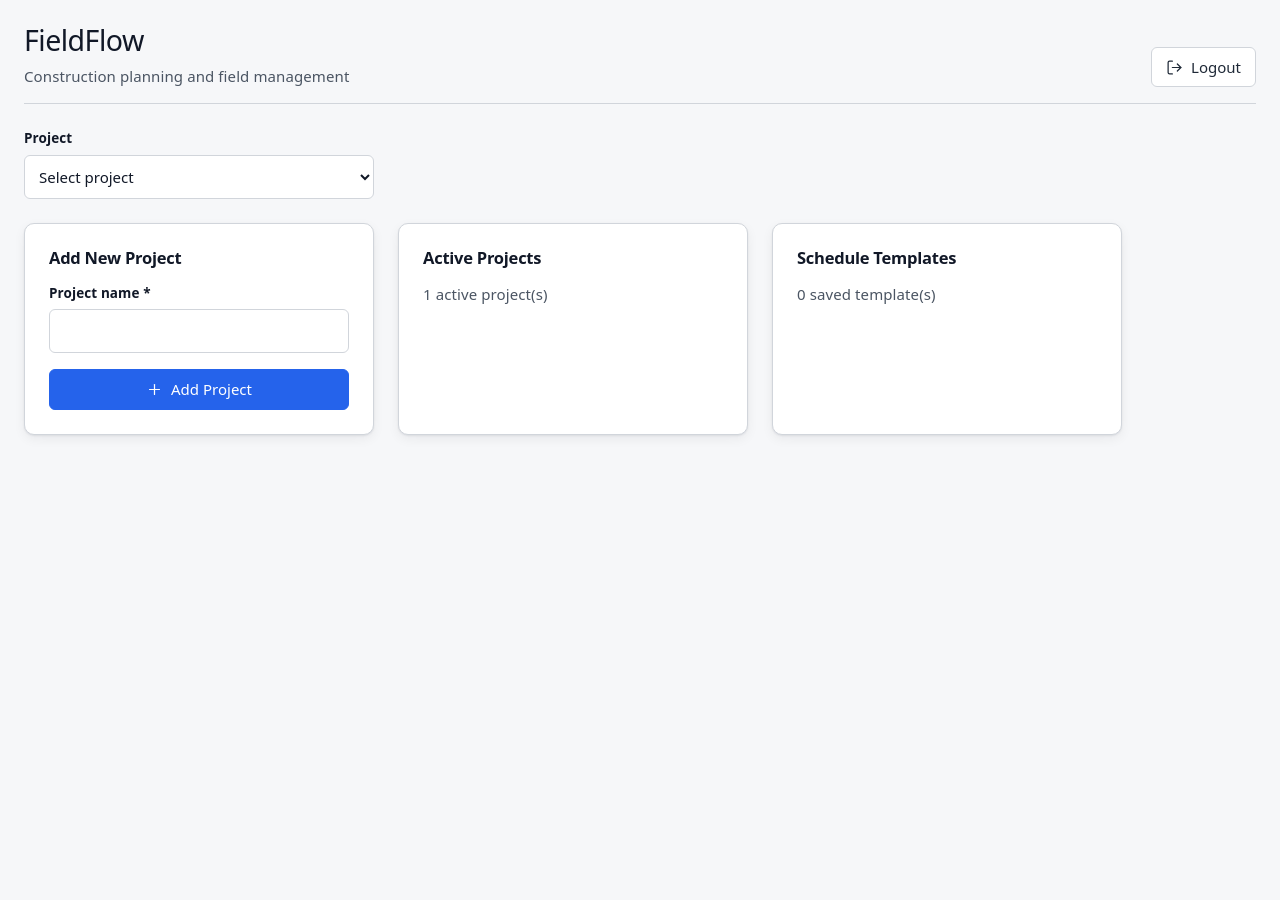
Test: App integration (hooks wiring) › navigates to the selected project's RFI route and loads RFIs
The width and height of the screenshot is (1280, 900).
Select "Riverside" in the dropdown labelled "Project" at (199, 176), box [24, 154, 374, 198]
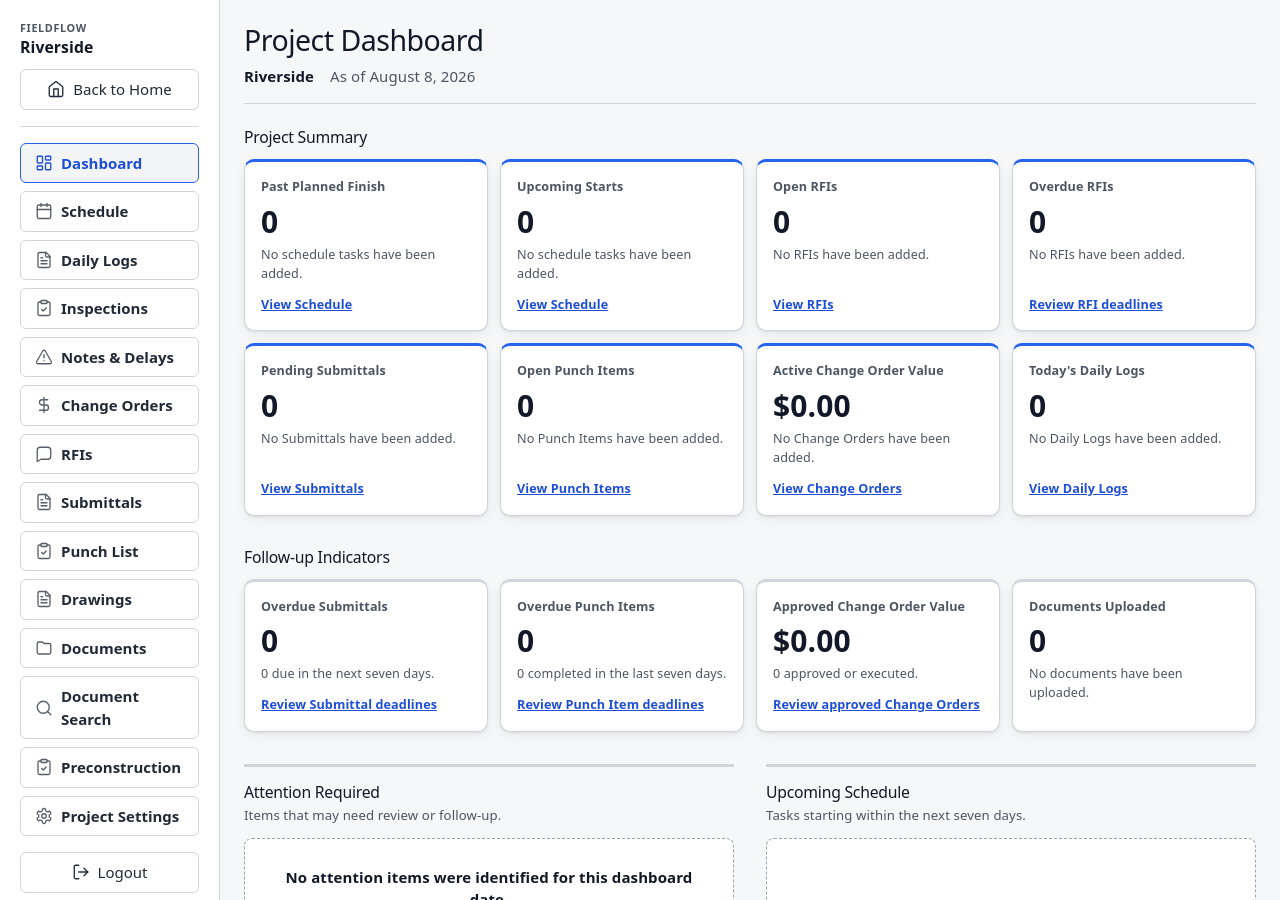
Now the heading "Project Dashboard" is shown, box [244, 24, 484, 57]
Click the button "RFIs" at (110, 454), box [20, 434, 199, 474]
(page scrolled)
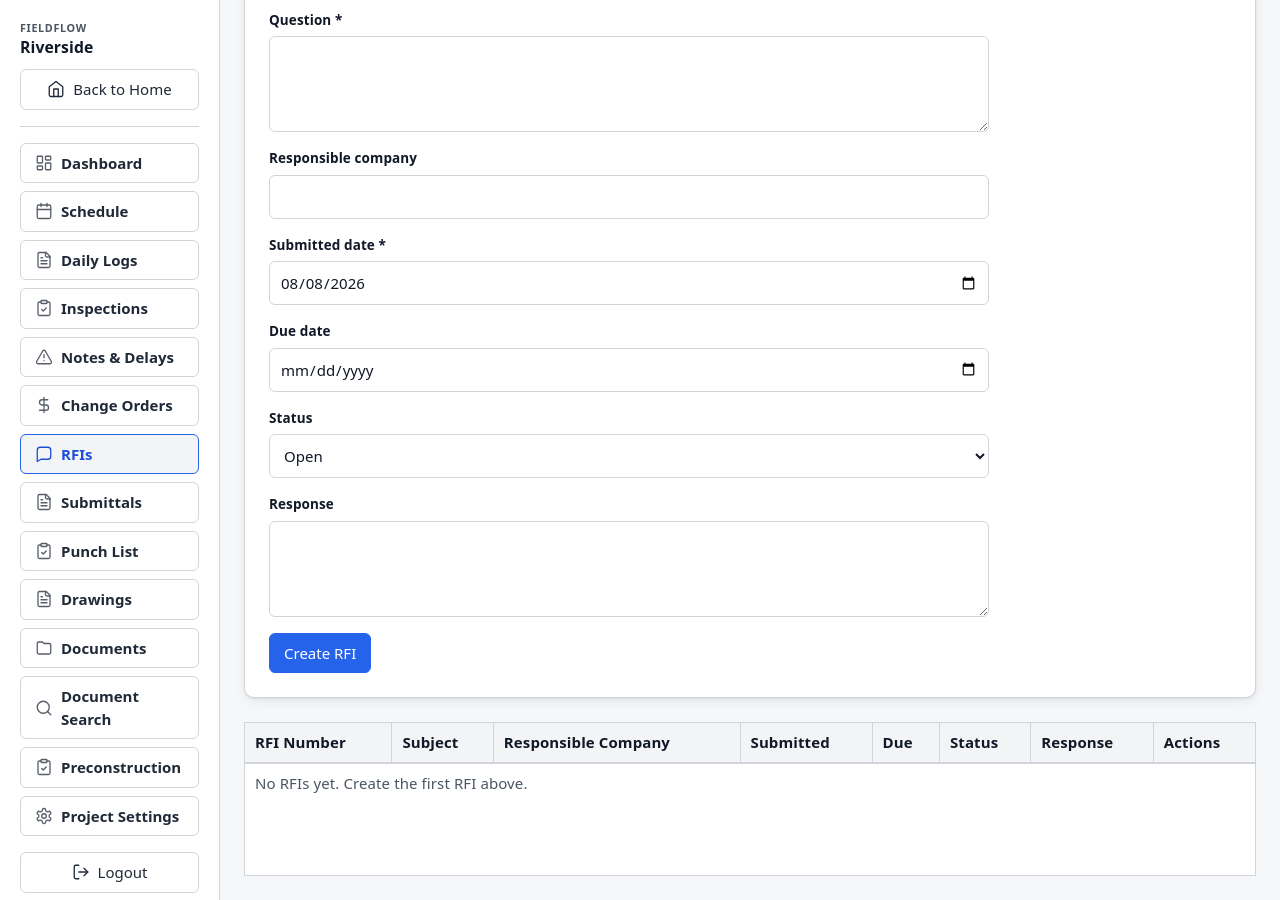
Now the text "No RFIs yet. Create the first RFI above." is shown, box [244, 763, 1256, 875]
